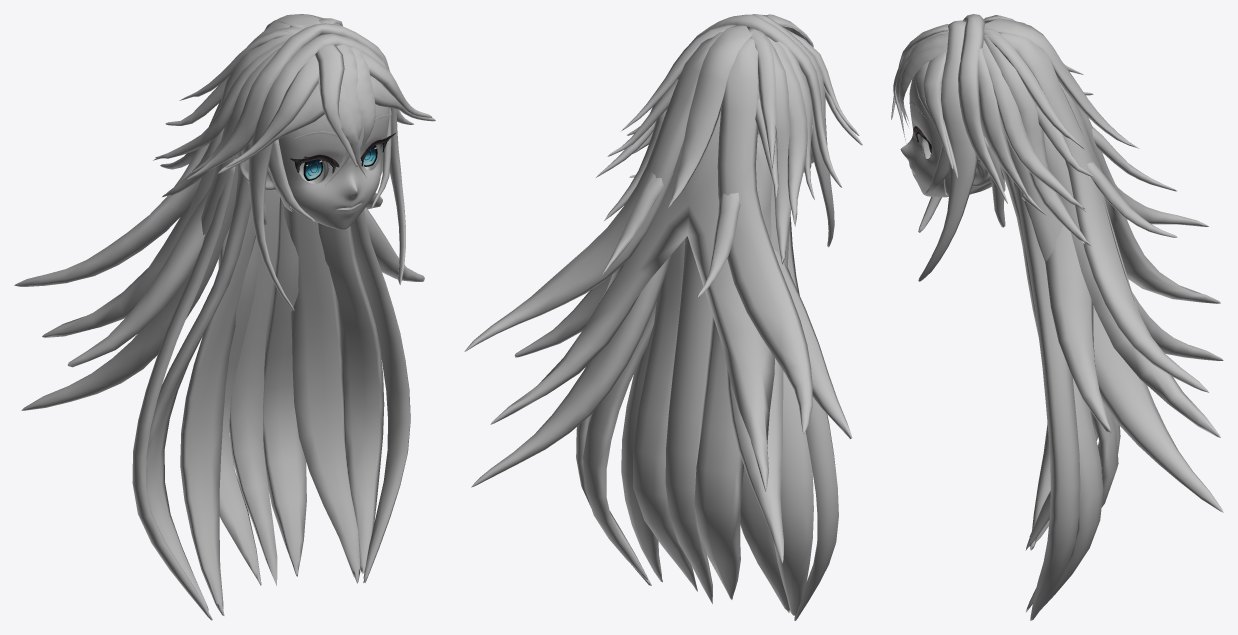
File: female_hair_long_2.glb
3 renders of one model, left to right at view 1: azimuth 30°, elevation 25°; view 2: azimuth 150°, elevation 25°; view 3: azimuth 270°, elevation 25°, orthographic. The views are drawn at different scales.
Visible parts, largest first — view 1: hair_9, hair_10, hair_13, hair_11, hair_12, face_0, hair_15, hair_22, hair_16, hair_8, hair_1, hair_14 (+10 smaller); view 2: hair_8, hair_14, hair_13, hair_15, hair_10, hair_12, hair_9, hair_11, hair_7, hair_16, hair_18, hair_6 (+7 smaller); view 3: hair_11, hair_8, hair_15, hair_14, hair_16, hair_22, hair_10, hair_1, hair_18, hair_17, face_0, hair_7 (+11 smaller).
Boxes of the visible parts, bbox=[...] form: hair_9: bbox=[180, 204, 360, 615]; hair_10: bbox=[146, 152, 384, 611]; hair_13: bbox=[218, 197, 306, 585]; hair_11: bbox=[132, 159, 410, 620]; hair_12: bbox=[229, 190, 279, 585]; face_0: bbox=[239, 104, 389, 229]; hair_15: bbox=[21, 117, 238, 410]; hair_22: bbox=[248, 33, 405, 310]; hair_16: bbox=[67, 186, 424, 367]; hair_8: bbox=[14, 14, 382, 286]; hair_1: bbox=[186, 23, 413, 179]; hair_14: bbox=[42, 167, 215, 337]; hair_8: bbox=[464, 32, 812, 434]; hair_14: bbox=[490, 111, 774, 491]; hair_13: bbox=[633, 238, 743, 600]; hair_15: bbox=[471, 134, 790, 562]; hair_10: bbox=[583, 302, 813, 615]; hair_12: bbox=[665, 236, 714, 603]; hair_9: bbox=[621, 325, 789, 612]; hair_11: bbox=[576, 217, 838, 620]; hair_7: bbox=[668, 25, 754, 207]; hair_16: bbox=[514, 249, 852, 438]; hair_18: bbox=[604, 25, 791, 264]; hair_6: bbox=[602, 171, 740, 297]; hair_11: bbox=[1014, 182, 1080, 620]; hair_8: bbox=[1000, 22, 1209, 392]; hair_15: bbox=[1006, 135, 1223, 512]; hair_14: bbox=[1043, 82, 1220, 437]; hair_16: bbox=[1045, 225, 1110, 432]; hair_22: bbox=[918, 20, 977, 281]; hair_10: bbox=[999, 164, 1103, 609]; hair_1: bbox=[958, 14, 1007, 203]; hair_18: bbox=[983, 17, 1090, 245]; hair_17: bbox=[982, 40, 1086, 212]; face_0: bbox=[900, 75, 1004, 197]; hair_7: bbox=[984, 18, 1139, 148].
Size of the model in its own units: 0.6837 by 1.09 by 0.579.
Materials: 34 (2 with a texture image).
